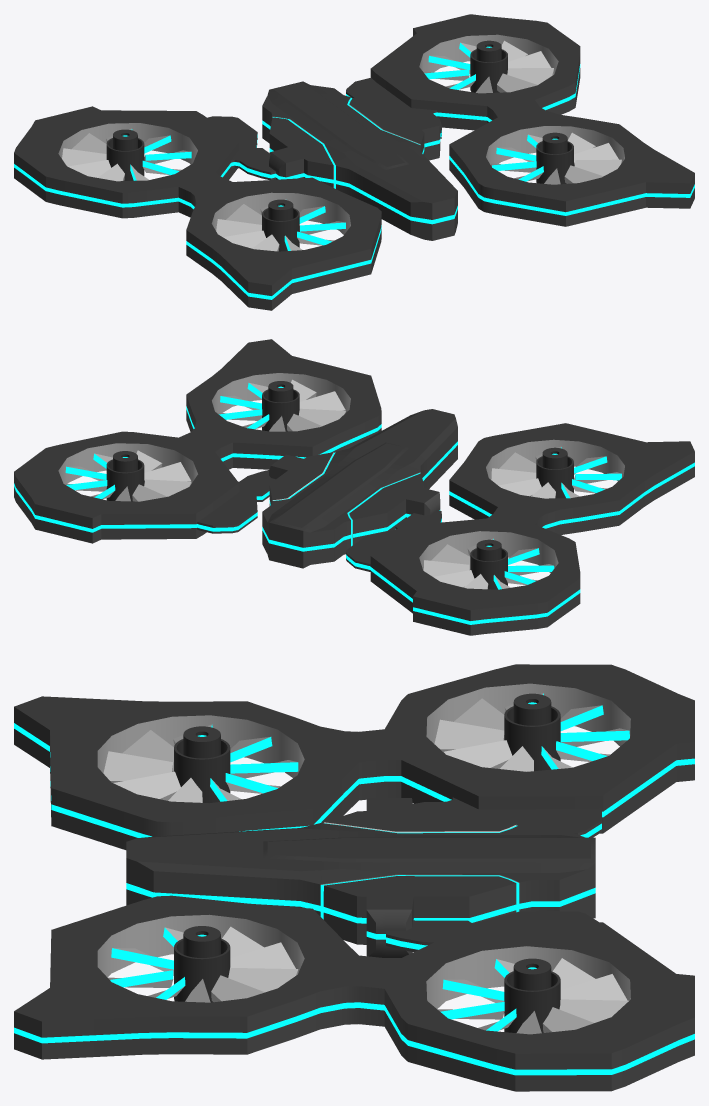
File: SM_StaticDrone.fbx
The picture shows the model from 3 angles, top to bottom: view 1: azimuth 30°, elevation 25°; view 2: azimuth 150°, elevation 25°; view 3: azimuth 270°, elevation 25°; orthographic projection. The views are drawn at different scales.
Visible parts, largest first — view 1: SM_StaticDrone; view 2: SM_StaticDrone; view 3: SM_StaticDrone.
Part boxes in pixels (left/top/right/bottom): SM_StaticDrone: left=14, top=14, right=694, bottom=310; SM_StaticDrone: left=14, top=339, right=694, bottom=635; SM_StaticDrone: left=14, top=664, right=694, bottom=1091.
Bounding box in the file's own units: 99.11 × 8.74 × 73.3.
